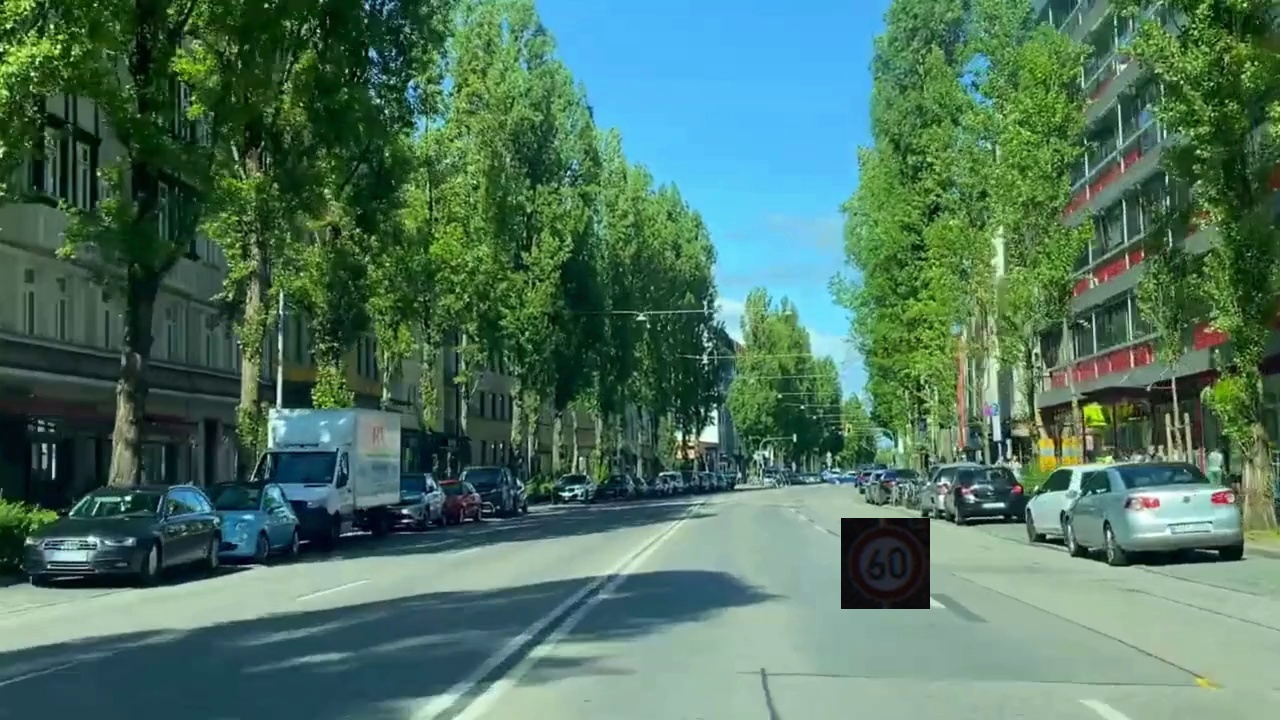Speed 60: (841, 518, 930, 609)
